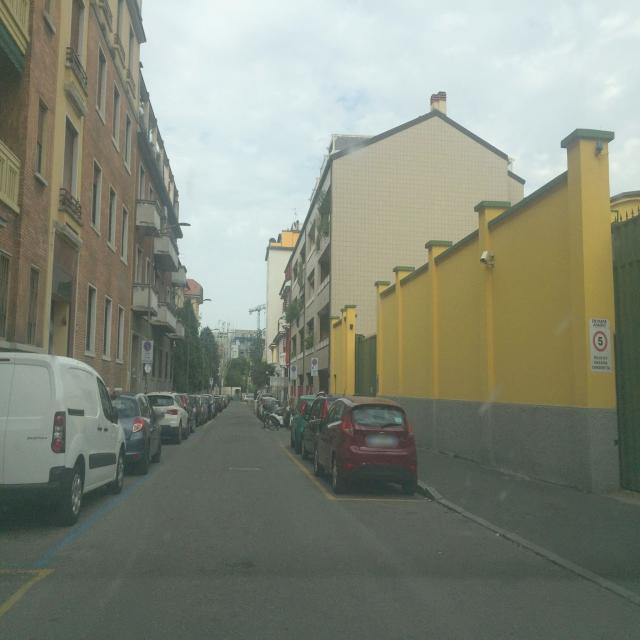bike: (263, 400, 289, 430)
car: (0, 344, 127, 526), (313, 394, 419, 494), (110, 390, 163, 474), (300, 394, 342, 460), (145, 391, 190, 444), (289, 393, 319, 452), (178, 392, 198, 434), (189, 393, 206, 427), (256, 393, 276, 419), (202, 394, 216, 419), (214, 394, 224, 411), (242, 392, 255, 403)
